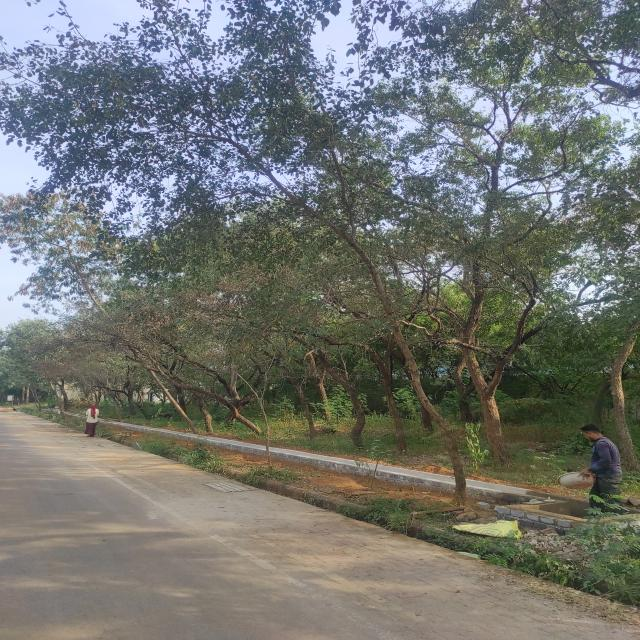Devakanchan tree: (84, 14, 590, 403)
